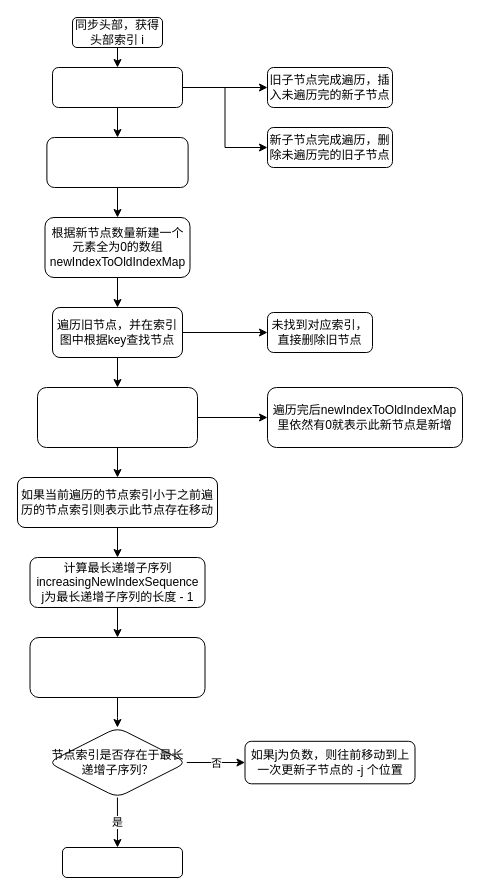
Image size: 480x895. Some labels were removed from this diagram. The centre of each missing label's shape, as x and y in pixels:
倒序最长递增子序列，即 j--: [122,862]
倒序遍历新子序列，使用最后更新的节点作为锚点。倒序时，锚点指向上一个更新的节点: [117,667]
同步尾部，获得旧节点尾部e1和新节点尾部e2: [117,87]
更新新子序列中元素在旧子序列中的索引，放置在 newIndexToOldIndexMap的对应元素位置上: [117,417]
根据 key 建立新子序列索引图 keyToNewIndexMap: [117,162]
